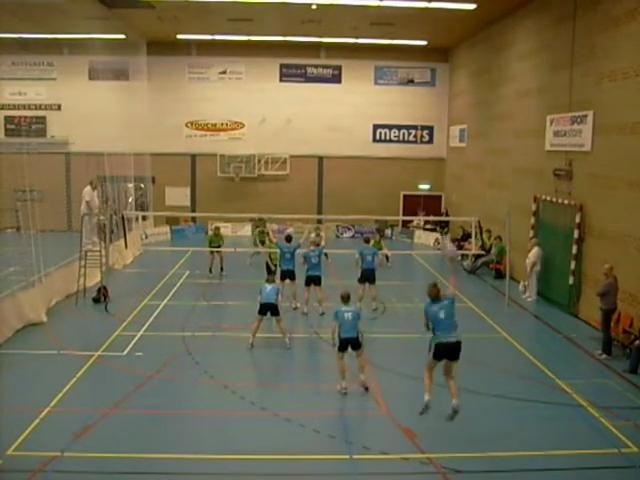Player: (331, 291, 368, 394), (271, 229, 307, 309), (249, 275, 289, 347), (302, 238, 324, 314), (356, 236, 378, 310), (207, 225, 223, 274), (372, 232, 389, 265), (265, 239, 278, 276), (253, 219, 268, 248), (312, 225, 325, 244)
Serve: (406, 243, 468, 436)
ball: (440, 243, 458, 256)
